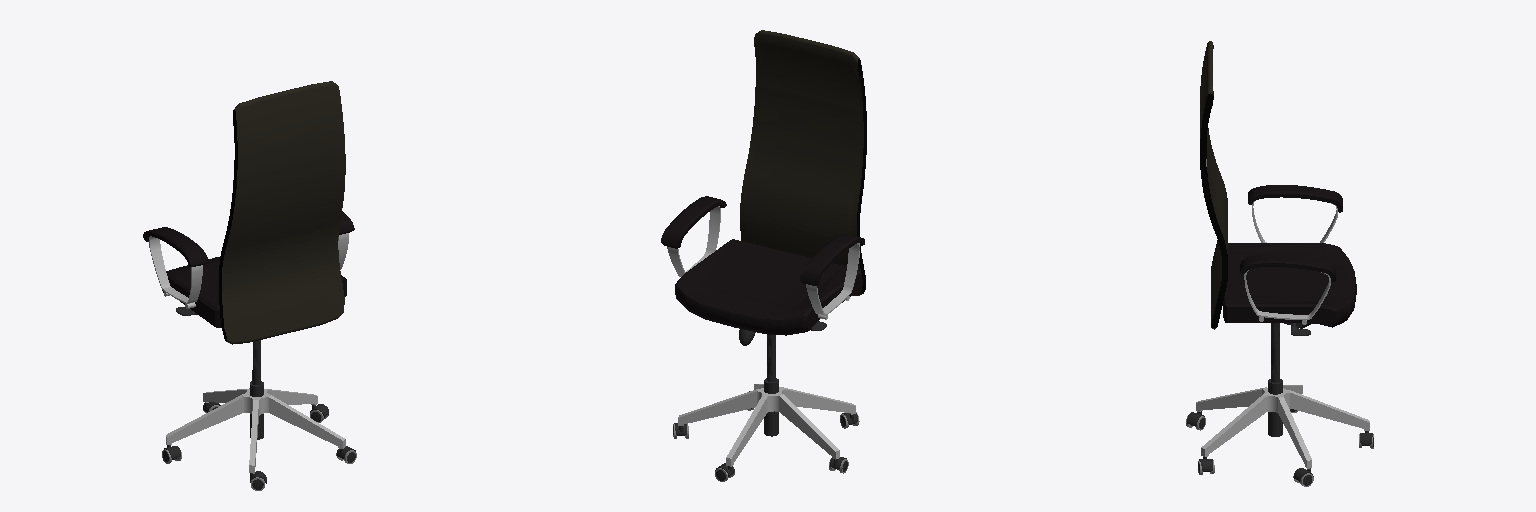
3 views of the same model, side by side, from view 1: azimuth 30°, elevation 25°; view 2: azimuth 150°, elevation 25°; view 3: azimuth 270°, elevation 25° (orthographic).
Visible parts, largest first — view 1: Mesh1 Group1 Model, Mesh3 Group3 Model, Mesh6 Group6 Model, Mesh12 Group10 Armrest2 Model, Mesh13 Group11 Armrest2 Model, Mesh2 Group2 Model; view 2: Mesh1 Group1 Model, Mesh6 Group6 Model, Mesh3 Group3 Model, Mesh9 Group9 Armrest1 Model, Mesh13 Group11 Armrest2 Model, Mesh12 Group10 Armrest2 Model, Mesh2 Group2 Model, Mesh8 Group8 Armrest1 Model; view 3: Mesh6 Group6 Model, Mesh3 Group3 Model, Mesh1 Group1 Model, Mesh9 Group9 Armrest1 Model, Mesh13 Group11 Armrest2 Model, Mesh2 Group2 Model, Mesh8 Group8 Armrest1 Model.
Boxes of the visible parts, x1,y1,x2,y2 form: Mesh1 Group1 Model: [219, 81, 345, 344]; Mesh3 Group3 Model: [166, 388, 345, 473]; Mesh6 Group6 Model: [162, 256, 346, 327]; Mesh12 Group10 Armrest2 Model: [149, 236, 202, 303]; Mesh13 Group11 Armrest2 Model: [143, 227, 208, 266]; Mesh2 Group2 Model: [250, 340, 263, 439]; Mesh1 Group1 Model: [740, 30, 866, 295]; Mesh6 Group6 Model: [675, 239, 861, 335]; Mesh3 Group3 Model: [678, 384, 855, 466]; Mesh9 Group9 Armrest1 Model: [661, 196, 726, 248]; Mesh13 Group11 Armrest2 Model: [800, 234, 864, 285]; Mesh12 Group10 Armrest2 Model: [806, 243, 859, 315]; Mesh2 Group2 Model: [764, 335, 778, 436]; Mesh8 Group8 Armrest1 Model: [667, 206, 720, 276]; Mesh6 Group6 Model: [1223, 243, 1356, 327]; Mesh3 Group3 Model: [1196, 385, 1369, 468]; Mesh1 Group1 Model: [1200, 41, 1227, 329]; Mesh9 Group9 Armrest1 Model: [1240, 254, 1335, 281]; Mesh13 Group11 Armrest2 Model: [1248, 185, 1342, 212]; Mesh2 Group2 Model: [1268, 323, 1282, 436]; Mesh8 Group8 Armrest1 Model: [1244, 270, 1330, 319].
Bounding box in the file's own units: 0.4521 × 0.9864 × 0.4385.